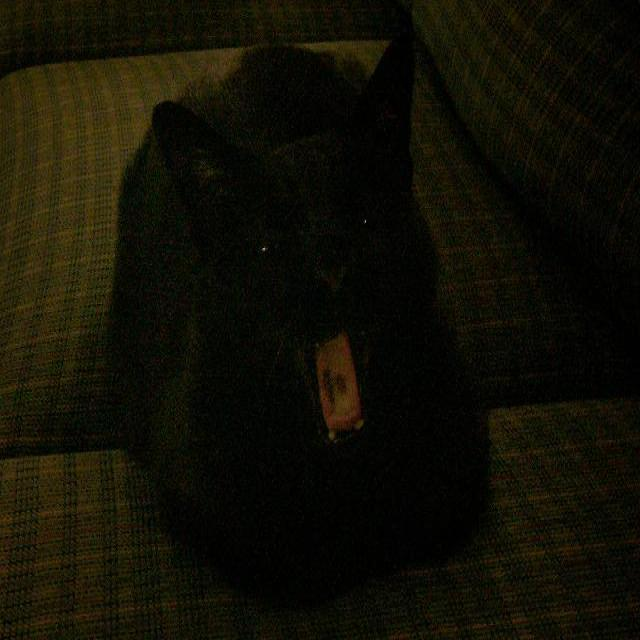Cat: (88, 0, 513, 605)
